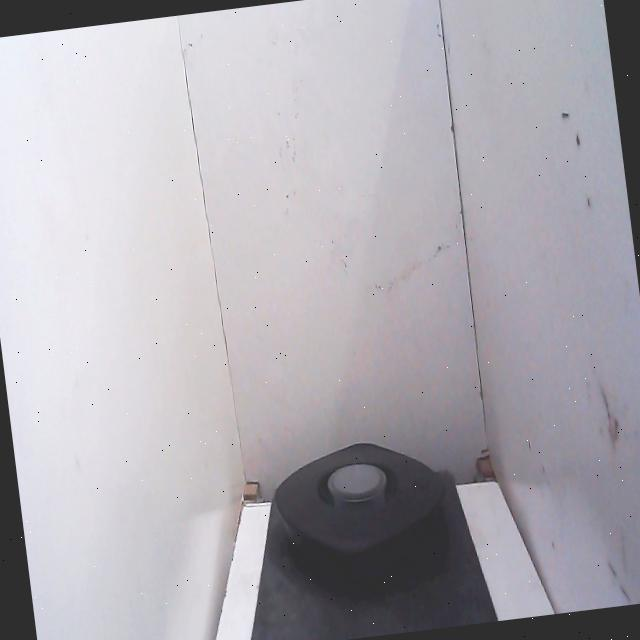plastico: (258, 409, 466, 606)
